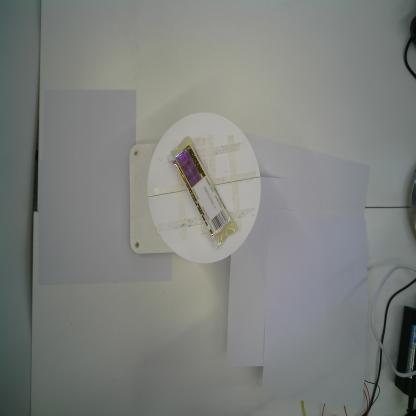Chocolate: (167, 136, 238, 250)
